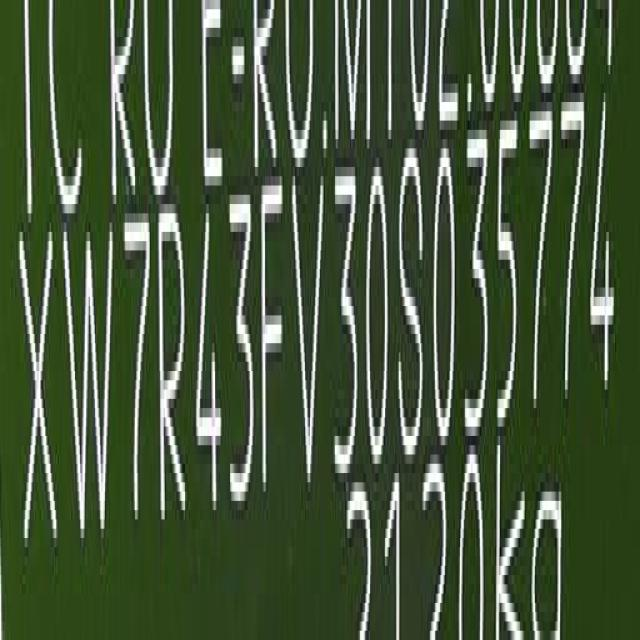0: (430, 134, 458, 443), (367, 154, 391, 470)
2: (63, 202, 116, 532)
3: (227, 189, 254, 512), (464, 110, 491, 429), (332, 165, 357, 477)
4: (195, 203, 224, 512), (588, 86, 617, 388)
5: (495, 117, 522, 422)
7: (121, 192, 155, 529), (526, 107, 554, 419), (561, 86, 586, 388)
F: (258, 162, 286, 516)
R: (155, 196, 190, 515)
S: (395, 141, 425, 457)
V: (289, 168, 325, 505)
X: (16, 196, 60, 563)
